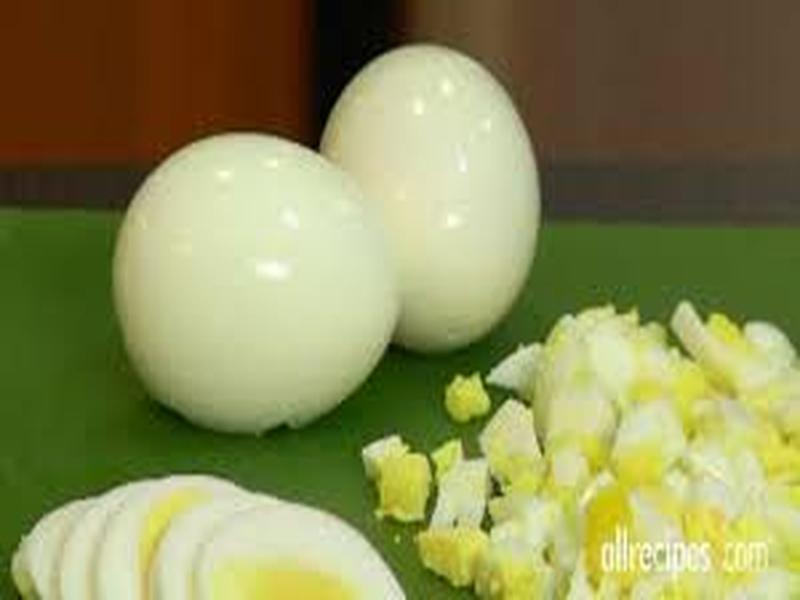egg: (122, 132, 395, 432)
